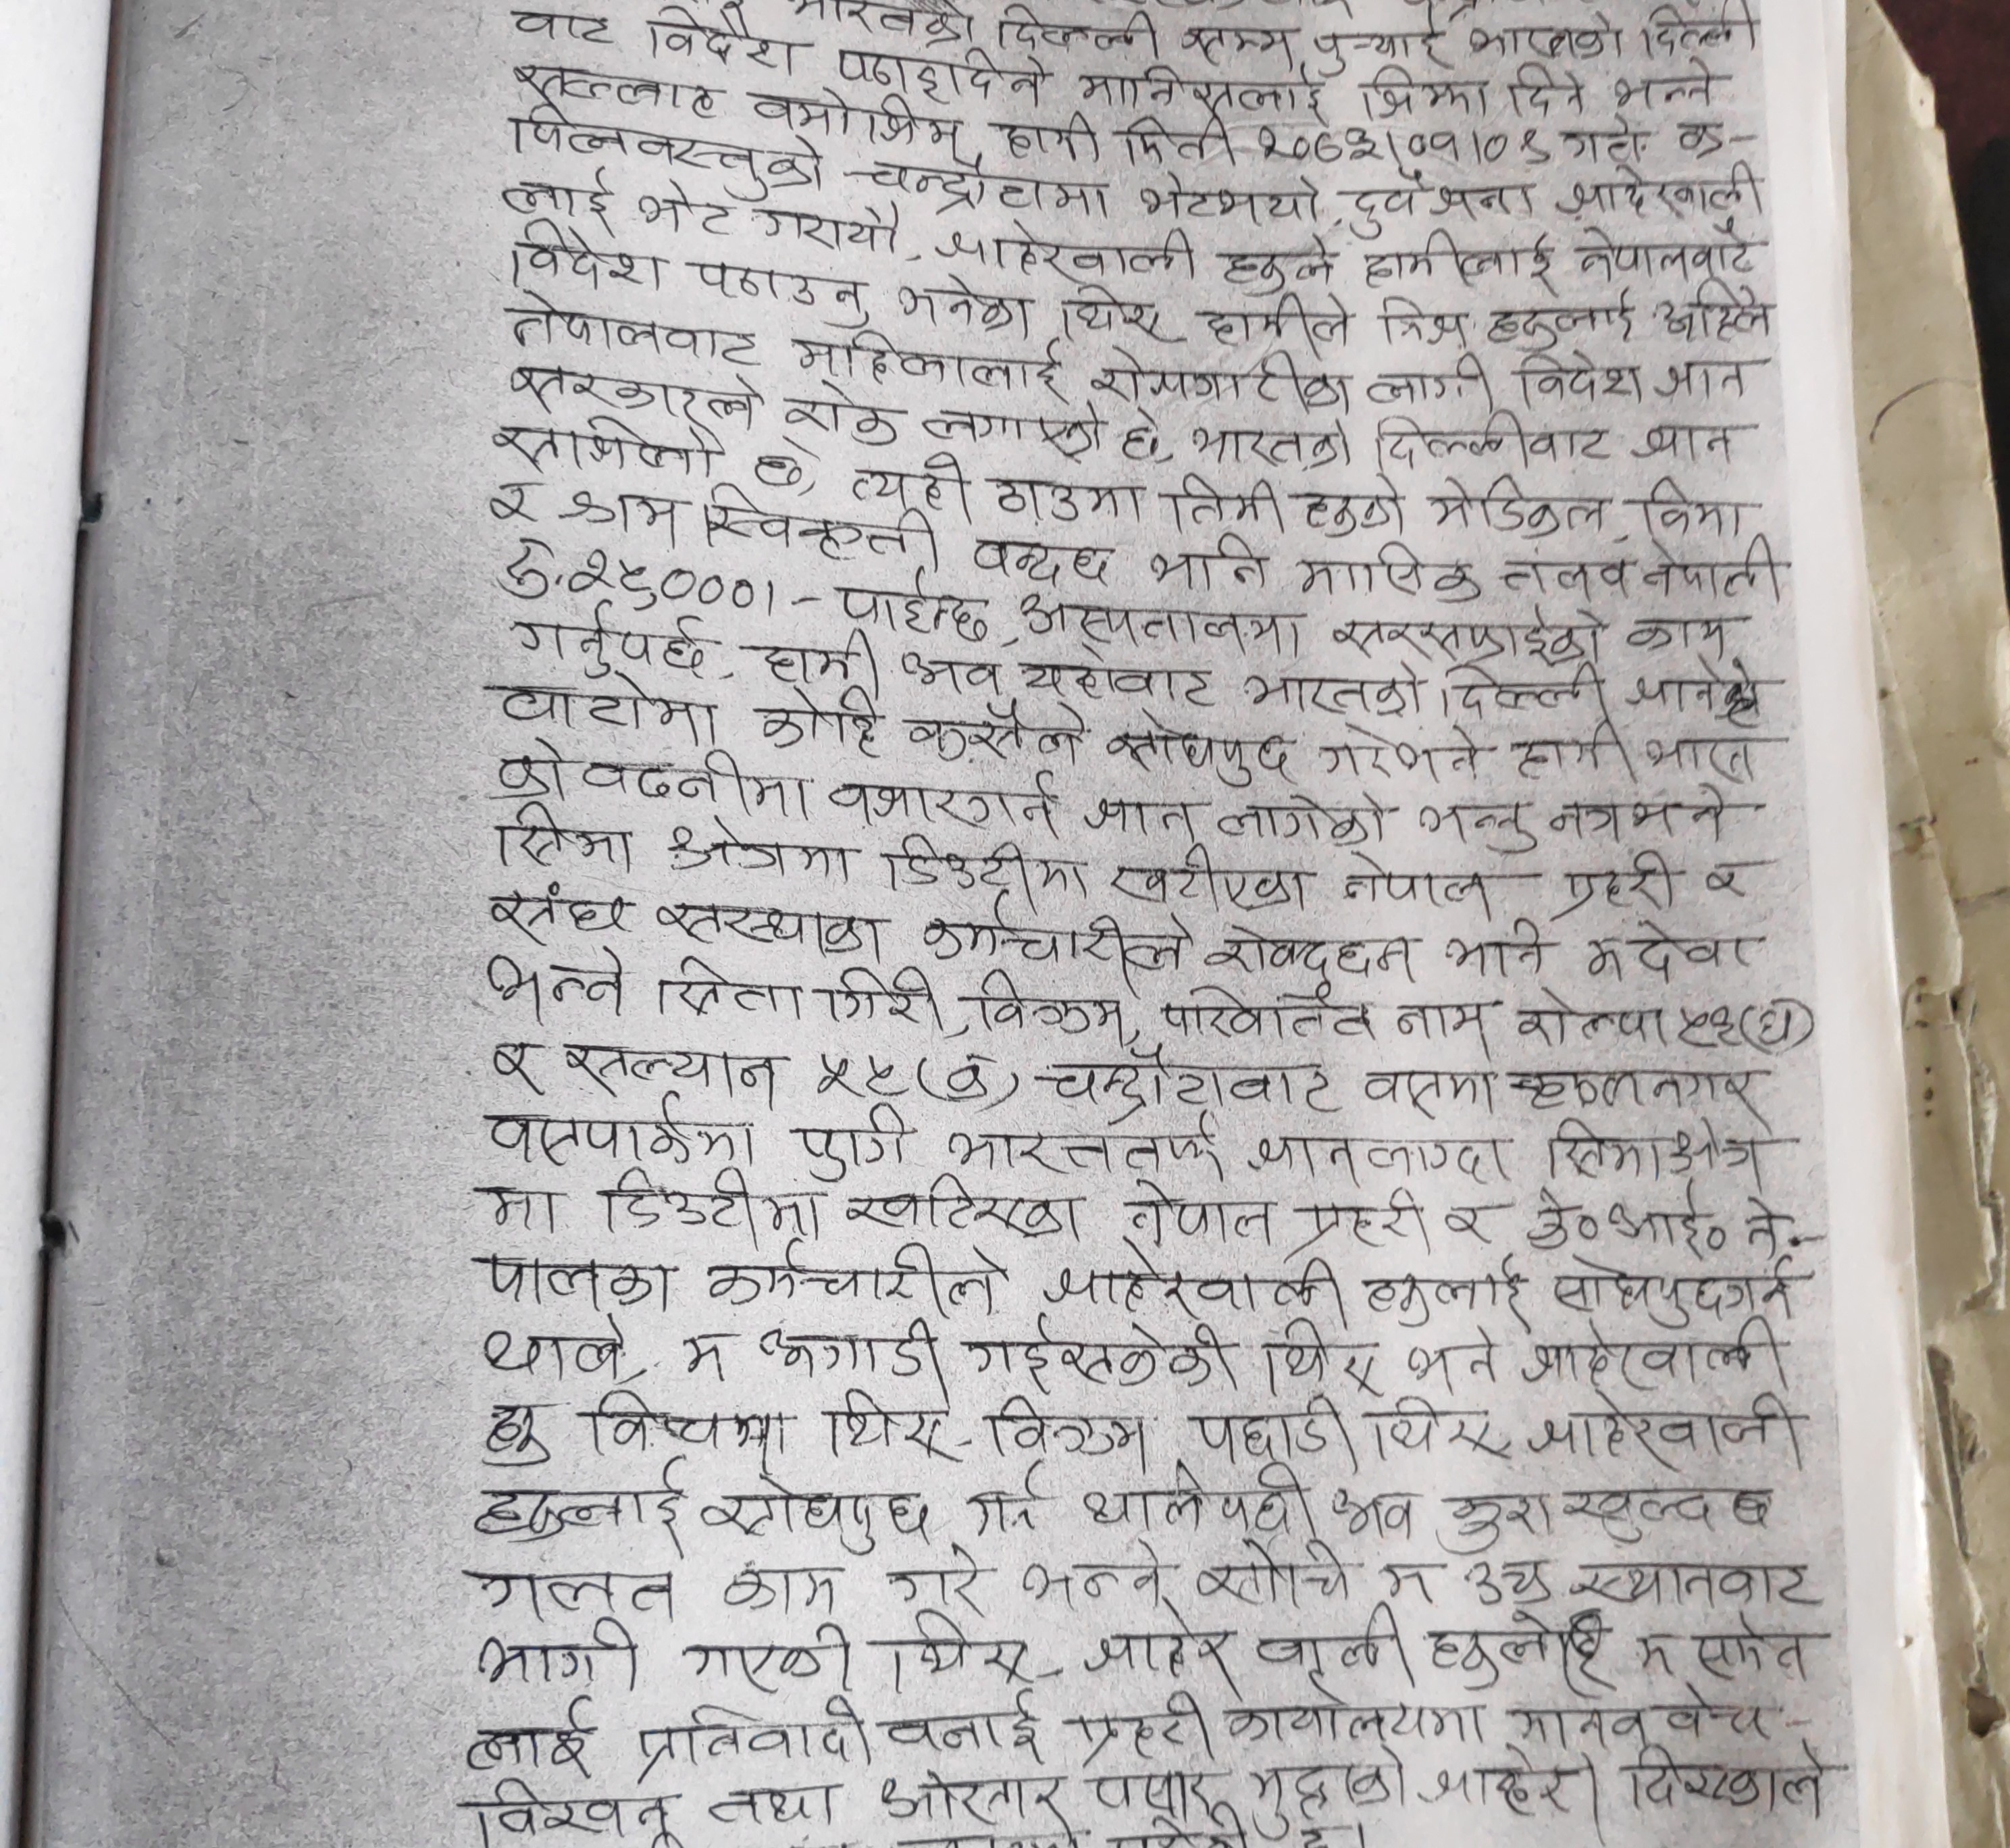text: (511, 109, 823, 189), (1033, 1039, 1348, 1116), (706, 1238, 1009, 1317), (1042, 1240, 1346, 1317), (1523, 1386, 1803, 1461), (499, 289, 763, 368), (944, 1109, 1227, 1181), (1511, 1317, 1795, 1389), (480, 1095, 756, 1168), (788, 324, 1075, 394), (921, 902, 1194, 976), (959, 1321, 1245, 1391), (1224, 1675, 1486, 1750), (1546, 1249, 1802, 1324), (690, 1478, 935, 1555), (497, 540, 758, 611), (1087, 343, 1353, 413), (1422, 1605, 1620, 1697), (1014, 594, 1308, 655), (581, 744, 811, 820), (630, 1697, 870, 1769), (474, 1466, 688, 1547), (1079, 1464, 1311, 1538), (1416, 1748, 1606, 1837), (1371, 401, 1611, 471), (849, 151, 1108, 215), (937, 219, 1203, 280), (602, 1165, 828, 1237), (1562, 1554, 1826, 1615), (502, 361, 758, 424), (459, 1774, 678, 1848), (1543, 1112, 1775, 1181), (1523, 1182, 1730, 1258), (1107, 706, 1292, 788), (1324, 610, 1602, 664), (1551, 1480, 1777, 1547), (1628, 1745, 1837, 1816), (471, 1617, 644, 1703), (1159, 981, 1378, 1047), (585, 1387, 791, 1457), (508, 606, 709, 678), (1247, 121, 1551, 168), (1201, 923, 1422, 988), (839, 1181, 1084, 1238), (882, 830, 1094, 897), (1243, 1130, 1511, 1182), (655, 895, 884, 956), (560, 1035, 791, 1095), (494, 413, 716, 475), (678, 1620, 858, 1696), (825, 772, 1058, 830), (495, 678, 721, 737), (1290, 540, 1486, 608), (1070, 65, 1332, 116), (830, 40, 1047, 102), (469, 1251, 674, 1315), (749, 84, 959, 147), (1345, 170, 1537, 238), (1108, 843, 1310, 907), (1360, 1254, 1537, 1328), (1119, 1174, 1280, 1254), (1245, 1746, 1402, 1829), (692, 257, 872, 329), (1422, 468, 1611, 536), (462, 1559, 678, 1619), (875, 1762, 1066, 1829), (881, 1608, 1035, 1690), (1359, 229, 1558, 293), (979, 1393, 1154, 1464), (1555, 163, 1779, 219), (667, 815, 854, 881), (1507, 1062, 1758, 1111), (755, 1315, 944, 1380), (504, 60, 721, 116), (823, 1386, 958, 1475), (965, 965, 1128, 1039), (902, 699, 1091, 762), (1583, 921, 1761, 988), (1079, 1612, 1241, 1683), (655, 953, 812, 1026), (1184, 1391, 1352, 1459), (480, 944, 629, 1021), (1191, 1540, 1357, 1608), (1016, 653, 1215, 709), (882, 1694, 1045, 1762), (1574, 221, 1758, 280), (1546, 781, 1730, 841), (835, 569, 991, 639), (1511, 981, 1670, 1049), (1241, 659, 1423, 718), (504, 219, 665, 286), (1318, 720, 1479, 786), (1135, 173, 1322, 229), (1016, 1541, 1168, 1610), (494, 799, 634, 872), (788, 1100, 910, 1184), (1254, 1606, 1404, 1675), (1066, 1689, 1212, 1759), (478, 1310, 627, 1379), (644, 4, 797, 70), (916, 405, 1107, 457), (889, 272, 1040, 338), (1641, 534, 1795, 599), (464, 1703, 594, 1780), (1486, 284, 1634, 350), (1338, 848, 1497, 909), (1628, 655, 1777, 720), (1693, 1610, 1817, 1687), (1217, 790, 1392, 844), (1441, 662, 1609, 718), (1196, 294, 1352, 354), (485, 879, 636, 941), (1555, 846, 1683, 918), (1259, 1312, 1378, 1389), (751, 690, 884, 758), (1371, 1394, 1499, 1464), (987, 4, 1157, 56), (1289, 1182, 1429, 1245), (816, 963, 944, 1032), (847, 445, 973, 513), (1465, 7, 1623, 61), (751, 201, 903, 257), (1511, 350, 1646, 413), (1513, 716, 1637, 785), (1189, 417, 1353, 468), (783, 387, 910, 452), (1352, 67, 1493, 123), (804, 503, 940, 561), (1359, 1062, 1495, 1119), (1649, 279, 1770, 343), (562, 482, 679, 548), (1416, 797, 1543, 858), (1360, 349, 1490, 408), (1058, 279, 1170, 347), (1511, 1699, 1655, 1752), (1145, 534, 1271, 594), (991, 478, 1149, 525), (1110, 112, 1236, 170), (718, 1564, 842, 1622), (762, 629, 881, 688), (1634, 2, 1760, 58), (1301, 471, 1404, 540), (1308, 12, 1451, 61), (692, 482, 797, 548), (1220, 231, 1331, 294), (700, 1780, 837, 1830), (970, 534, 1110, 583), (1441, 1492, 1553, 1554), (1637, 478, 1749, 538), (1437, 916, 1550, 976), (1404, 1328, 1504, 1394), (1164, 473, 1282, 529), (1178, 14, 1303, 67), (882, 1541, 980, 1608), (1662, 1694, 1789, 1745), (1642, 727, 1758, 783), (1087, 1771, 1213, 1822), (495, 166, 622, 215), (1497, 552, 1632, 597), (636, 182, 737, 242), (1376, 289, 1474, 350), (1632, 413, 1749, 464), (488, 1398, 560, 1478), (1390, 995, 1495, 1049), (1331, 1484, 1416, 1548), (968, 1464, 1045, 1534), (492, 732, 571, 801), (1614, 60, 1716, 112), (1460, 1554, 1560, 1606), (1502, 61, 1592, 119), (1082, 792, 1199, 836), (1000, 116, 1101, 165), (809, 1046, 907, 1097), (476, 1177, 564, 1233), (1651, 352, 1761, 396), (896, 652, 1001, 697), (1621, 611, 1730, 655), (1564, 117, 1648, 166), (506, 11, 613, 47), (1672, 998, 1744, 1049), (1700, 853, 1765, 906), (487, 1033, 543, 1093), (674, 1326, 730, 1386), (746, 445, 821, 489), (1740, 1195, 1791, 1258), (1436, 1200, 1502, 1245), (1378, 1554, 1439, 1601), (1119, 413, 1173, 464), (944, 1049, 996, 1098), (485, 478, 538, 525), (1632, 1629, 1676, 1683)
